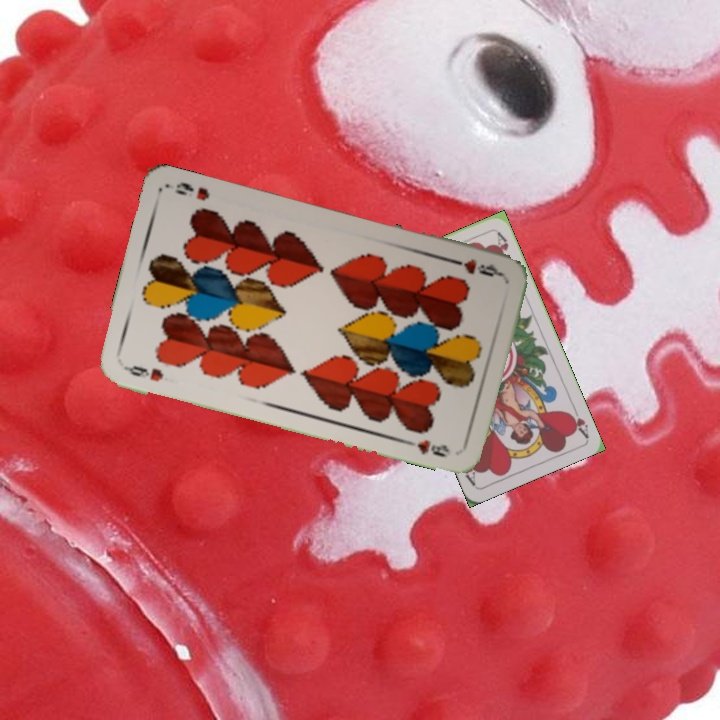H9: (447, 254, 506, 280), (120, 361, 166, 384)
HA: (564, 401, 591, 440)
